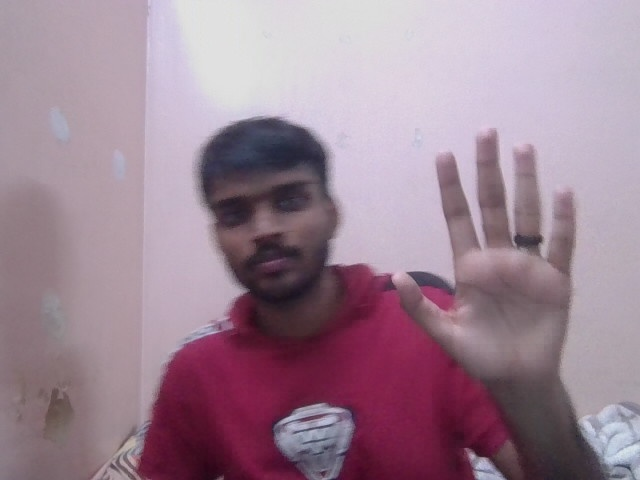Hello: (395, 125, 589, 380)
